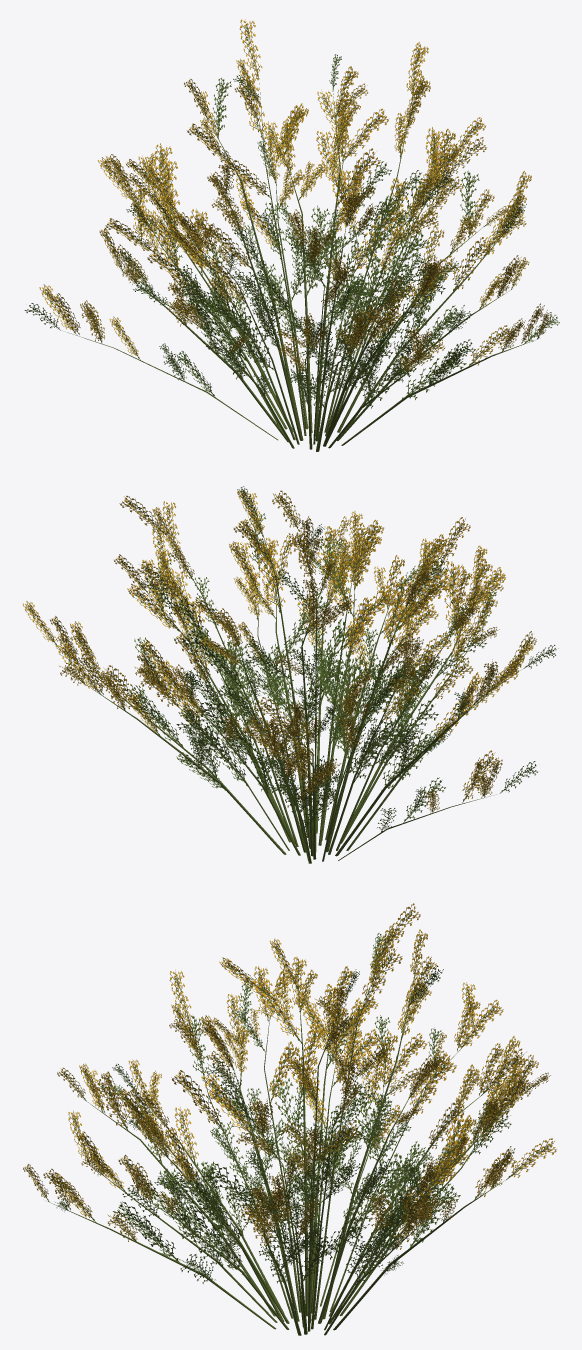
File: common-broom.glb
The picture shows the model from 3 angles, top to bottom: view 1: azimuth 30°, elevation 25°; view 2: azimuth 150°, elevation 25°; view 3: azimuth 270°, elevation 25°; orthographic projection. The views are drawn at different scales.
Parts seen in each view (by area): view 1: Common Broom; view 2: Common Broom; view 3: Common Broom.
Part boxes in pixels (x1,y1,x2,y2): Common Broom: (24, 19, 559, 451); Common Broom: (22, 486, 558, 863); Common Broom: (23, 903, 556, 1335).
Bounding box in the file's own units: 2.52 × 1.91 × 2.3.
Materials: 3 (3 with a texture image).
